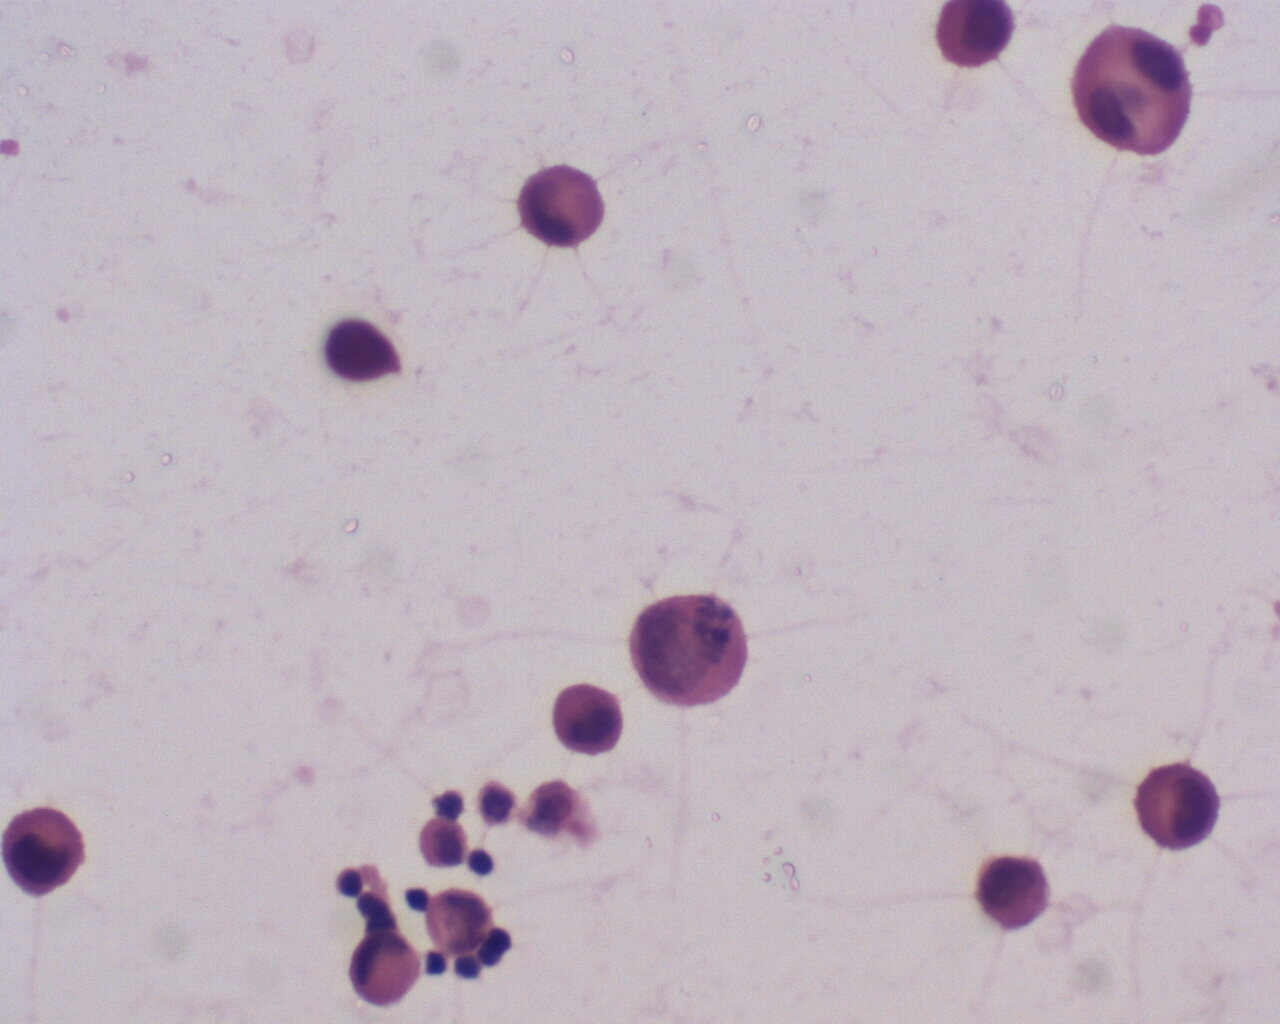ab: (627, 585, 758, 715), (1, 802, 87, 904), (1133, 760, 1223, 855), (972, 853, 1053, 935)
histo: (508, 164, 616, 254), (347, 928, 424, 1011)
lymph: (466, 845, 496, 879)
